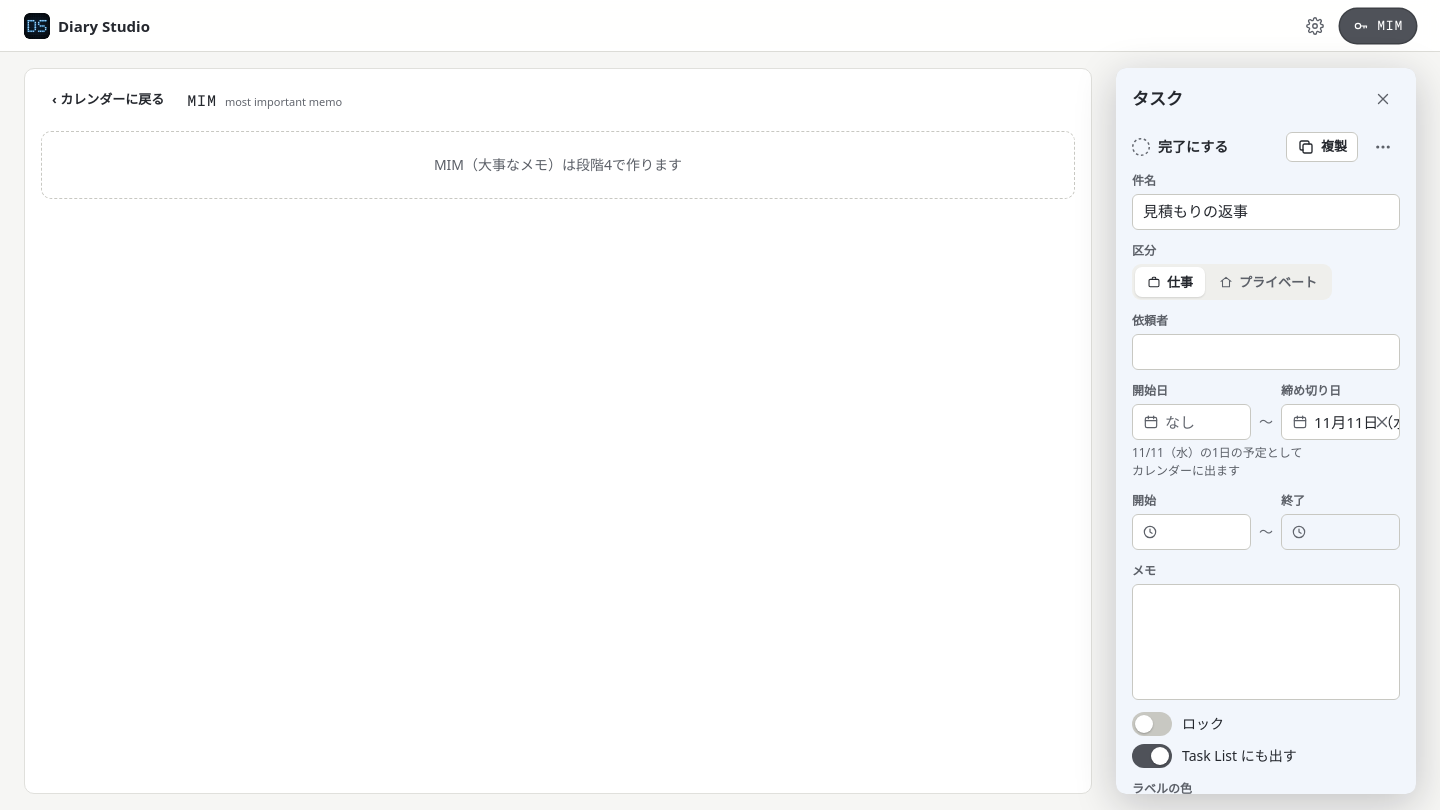
S3 リストから開く小さな画面の出し方（S3-FRAME-075・076・101・106・TASK-140・149） › L の MIM（#/mim）の上でも右の列の上のパネルで開き、［×］で閉じると #/mim へ戻る（MIM の横の右の列から開いた物）
This screenshot has width=1440, height=810.
Click the button with test id "modal-close" at [1383, 99], box [1366, 82, 1400, 116]
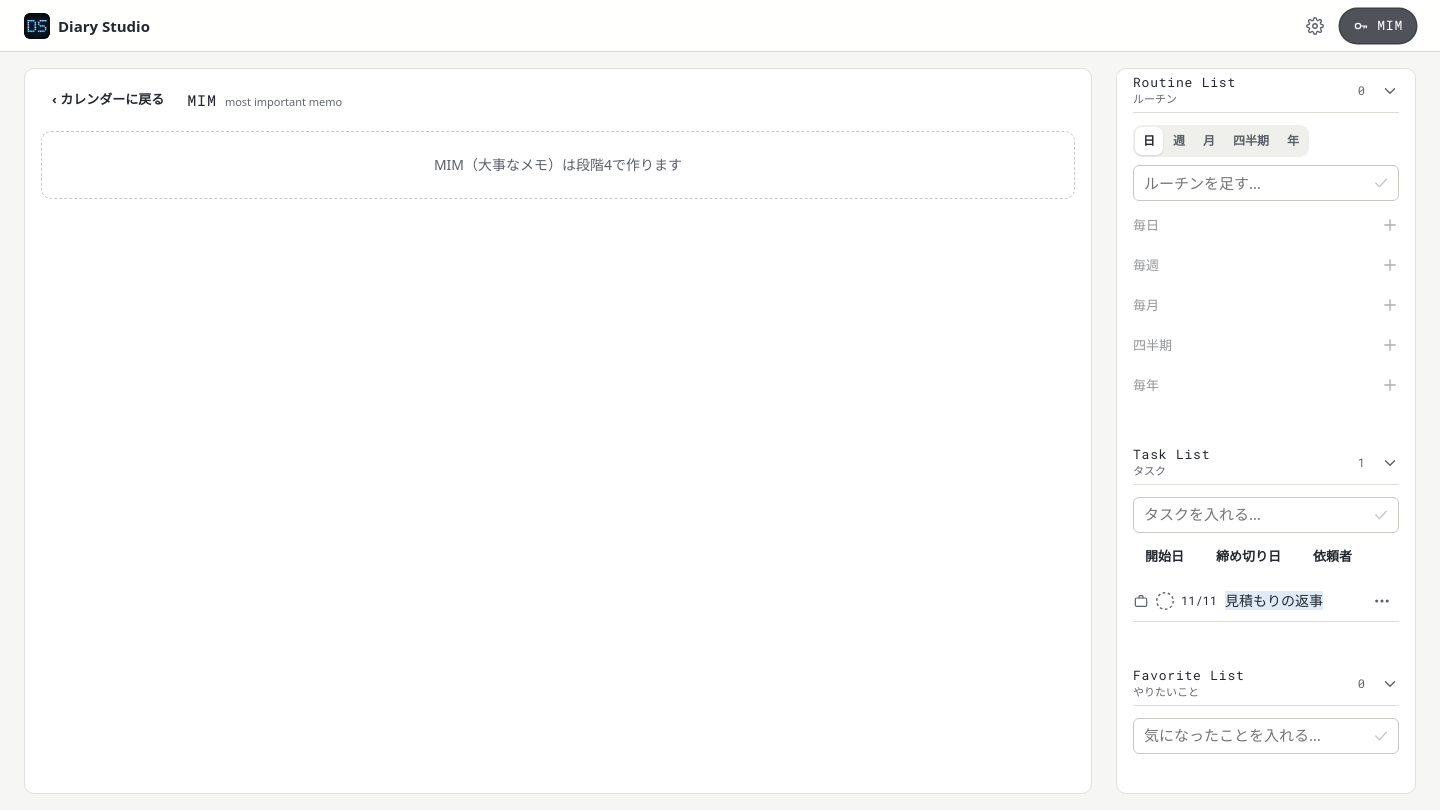
Result: the dialog with test id "item-sheet" is gone
